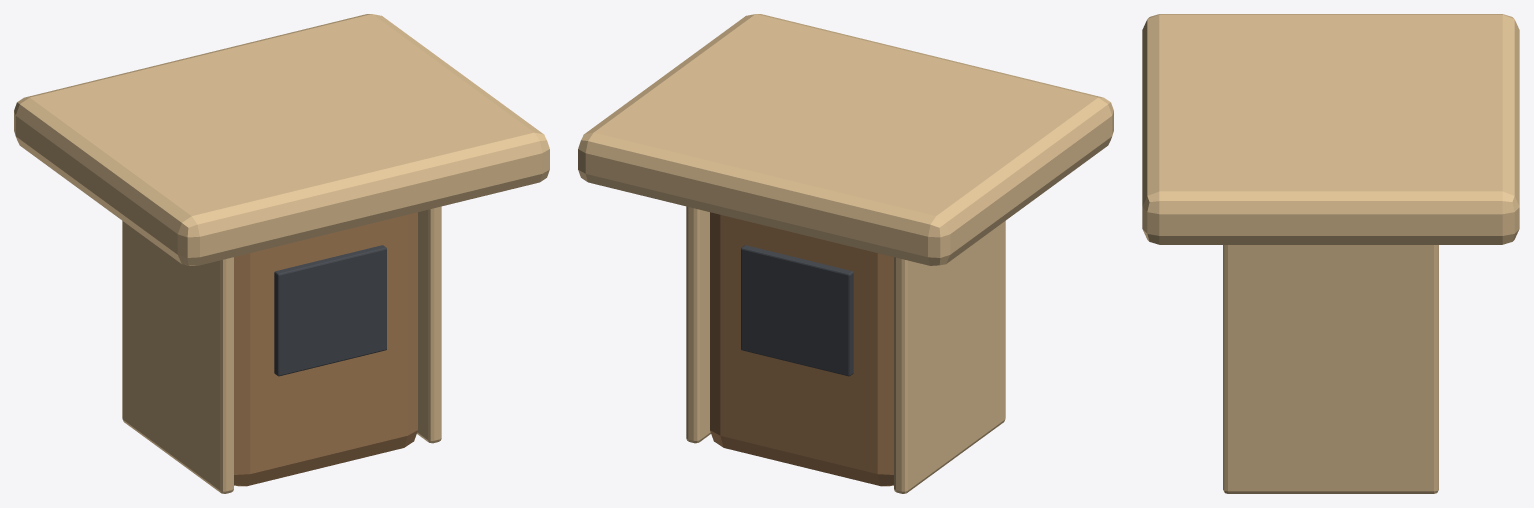
Rendered from shinji_sanbo.glb.
The picture shows the model from 3 angles, left to right: view 1: azimuth 30°, elevation 25°; view 2: azimuth 150°, elevation 25°; view 3: azimuth 270°, elevation 25°; orthographic projection. The views are drawn at different scales.
Parts seen in each view (by area): view 1: Sanbo square wooden tray, Hollow sanbo pedestal, Sanbo outer joinery, Carved sanbo opening, Sanbo outer joinery.001; view 2: Sanbo square wooden tray, Hollow sanbo pedestal, Sanbo outer joinery, Carved sanbo opening.001, Sanbo outer joinery.001; view 3: Sanbo square wooden tray, Sanbo outer joinery.001.
Part boxes in pixels (x1,y1,x2,y2): Sanbo square wooden tray: [14, 14, 549, 265]; Hollow sanbo pedestal: [234, 212, 417, 486]; Sanbo outer joinery: [122, 221, 233, 493]; Carved sanbo opening: [274, 245, 386, 376]; Sanbo outer joinery.001: [417, 206, 441, 443]; Sanbo square wooden tray: [578, 14, 1113, 265]; Hollow sanbo pedestal: [710, 212, 893, 486]; Sanbo outer joinery: [894, 221, 1005, 493]; Carved sanbo opening.001: [741, 245, 853, 376]; Sanbo outer joinery.001: [686, 206, 710, 443]; Sanbo square wooden tray: [1142, 14, 1519, 244]; Sanbo outer joinery.001: [1223, 245, 1438, 493].
Bounding box in the file's own units: 1.95 × 1.64 × 1.62.
